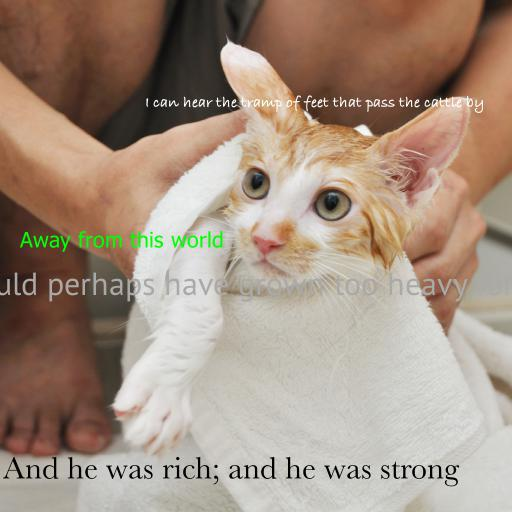Baskerville: (3, 456, 459, 487)
Bradley Hand: (145, 95, 485, 113)
PT Sans: (0, 272, 512, 302)
Tahoma: (20, 231, 224, 252)
